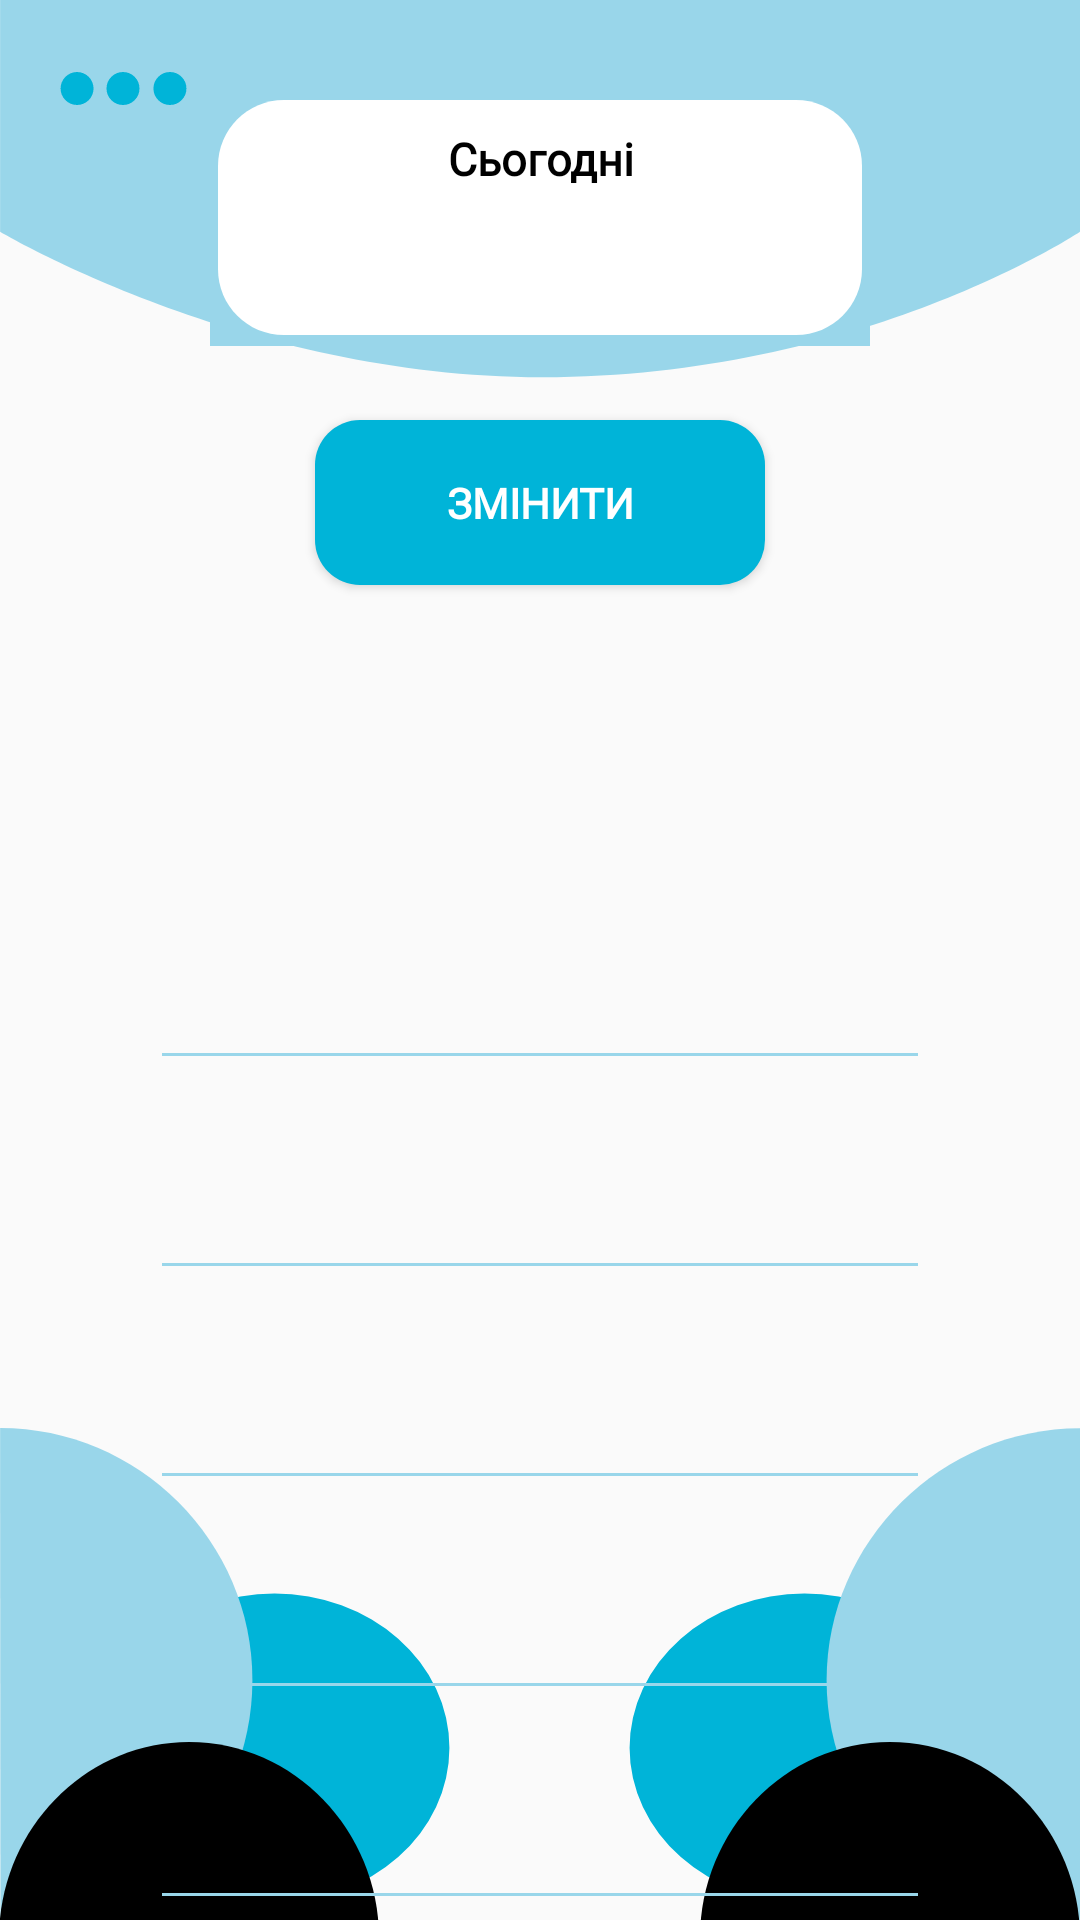

Named icons in this screenshot (1080 x 1920) and their bounding boxes, {"left": x1, "top": y1, "right": x2, "bottom": y2}:
access to sidebar: {"left": 60, "top": 72, "right": 187, "bottom": 105}
